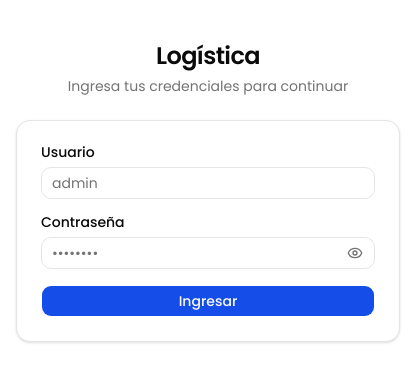
Scenario: Login form — validación de schema Zod › username vacío falla con "Usuario requerido"
The image size is (417, 388).
What coordinates should you click on to do the following:
click the button "Ingresar"
I would click on:
 (208, 301)
Its box is top-left (41, 285), bottom-right (375, 317).
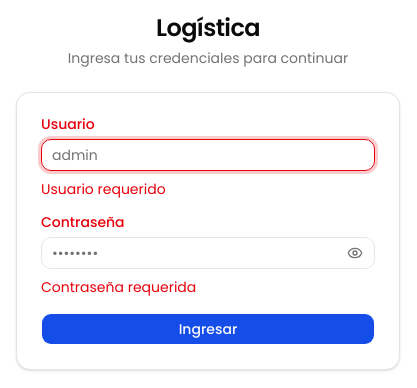
Result: the text "Usuario requerido" is shown at top-left (41, 179), bottom-right (166, 199)
